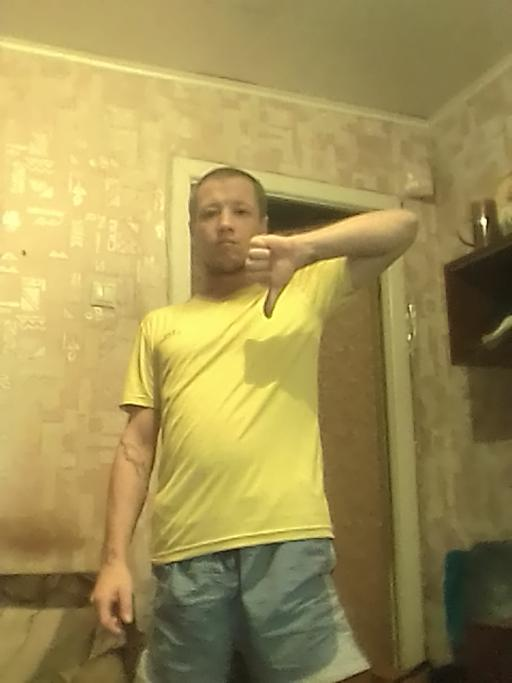dislike: (242, 230, 299, 319)
no_gesture: (87, 561, 138, 638)
